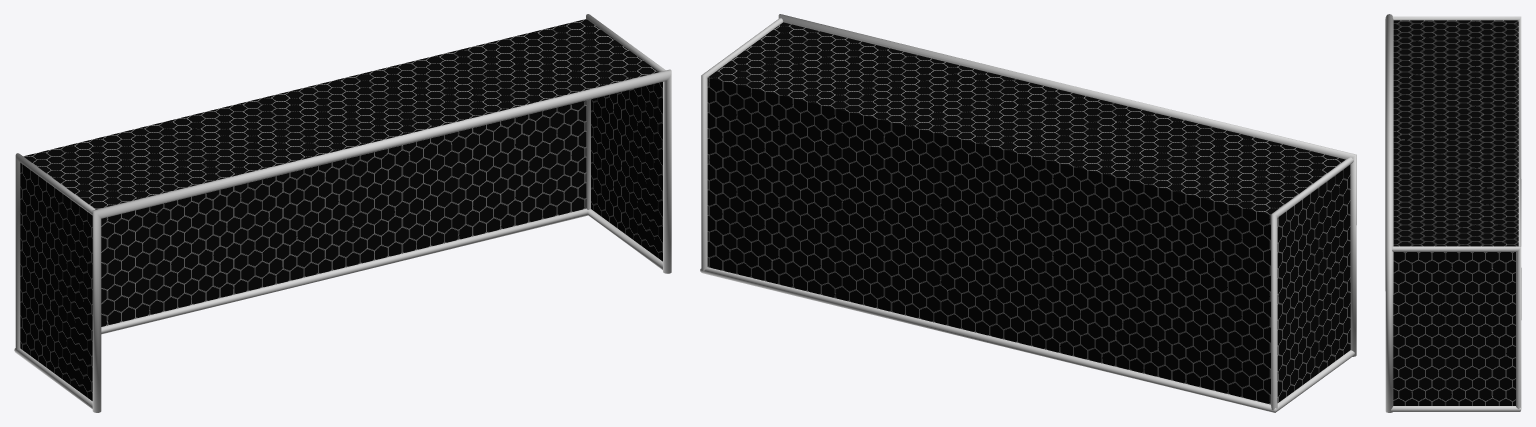
The model's file is big-football-goal.glb.
The picture shows the model from 3 angles, left to right: view 1: azimuth 30°, elevation 25°; view 2: azimuth 150°, elevation 25°; view 3: azimuth 270°, elevation 25°; orthographic projection. The views are drawn at different scales.
Parts seen in each view (by area): view 1: Node1, Node2; view 2: Node1, Node2; view 3: Node1, Node2.
Boxes of the visible parts, x1,y1,x2,y2 form: Node1: (20, 19, 662, 400); Node2: (14, 14, 671, 412); Node1: (707, 22, 1350, 404); Node2: (700, 14, 1356, 412); Node1: (1393, 20, 1518, 405); Node2: (1385, 14, 1521, 412).
Size of the model in its own units: 732 by 244 by 181.
2 materials, 1 textured.
